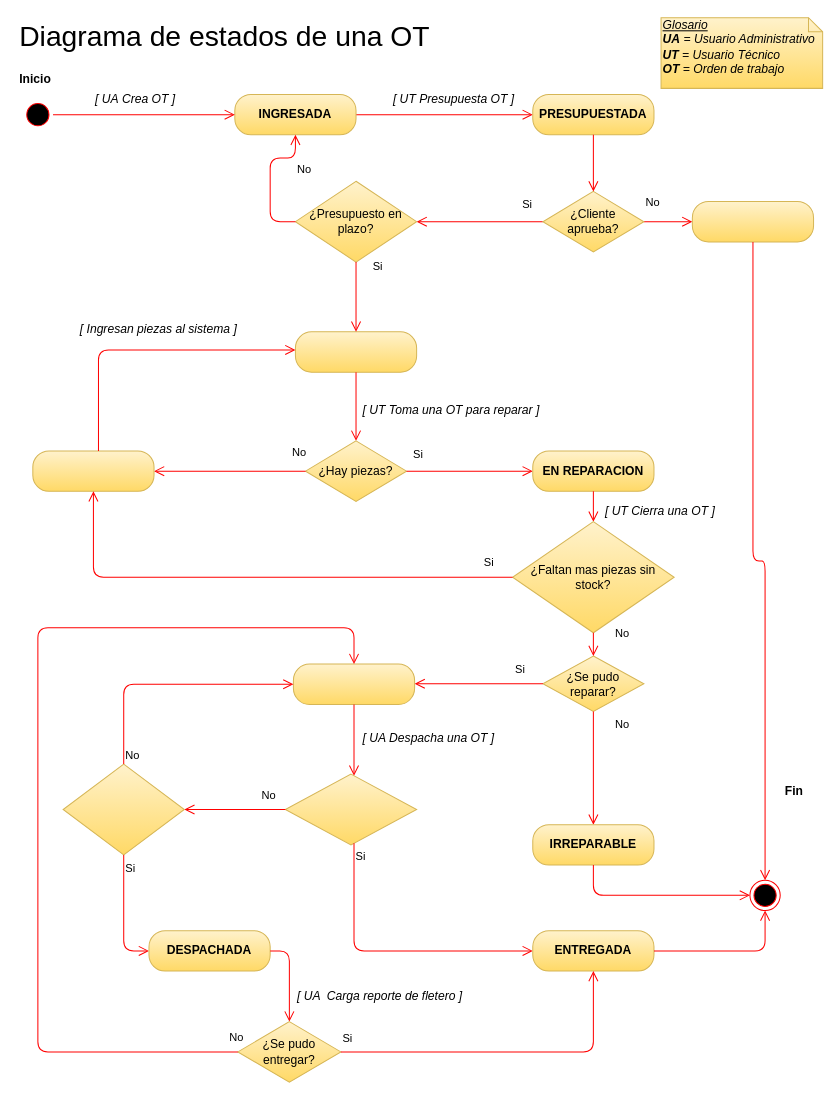
Some shapes in this 840 by 1100 pixel diagram are drawn without their labels. The centre of each missing label's shape, as x and y in pixels:
APROBADA: point (355, 351)
DESAPROBADA: point (752, 221)
EN ESPERA DE PIEZAS: point (93, 470)
REPARADA: point (353, 683)
¿Tiene entrega a domicilio?: point (123, 809)
¿Viene a buscar cliente?: point (350, 809)
